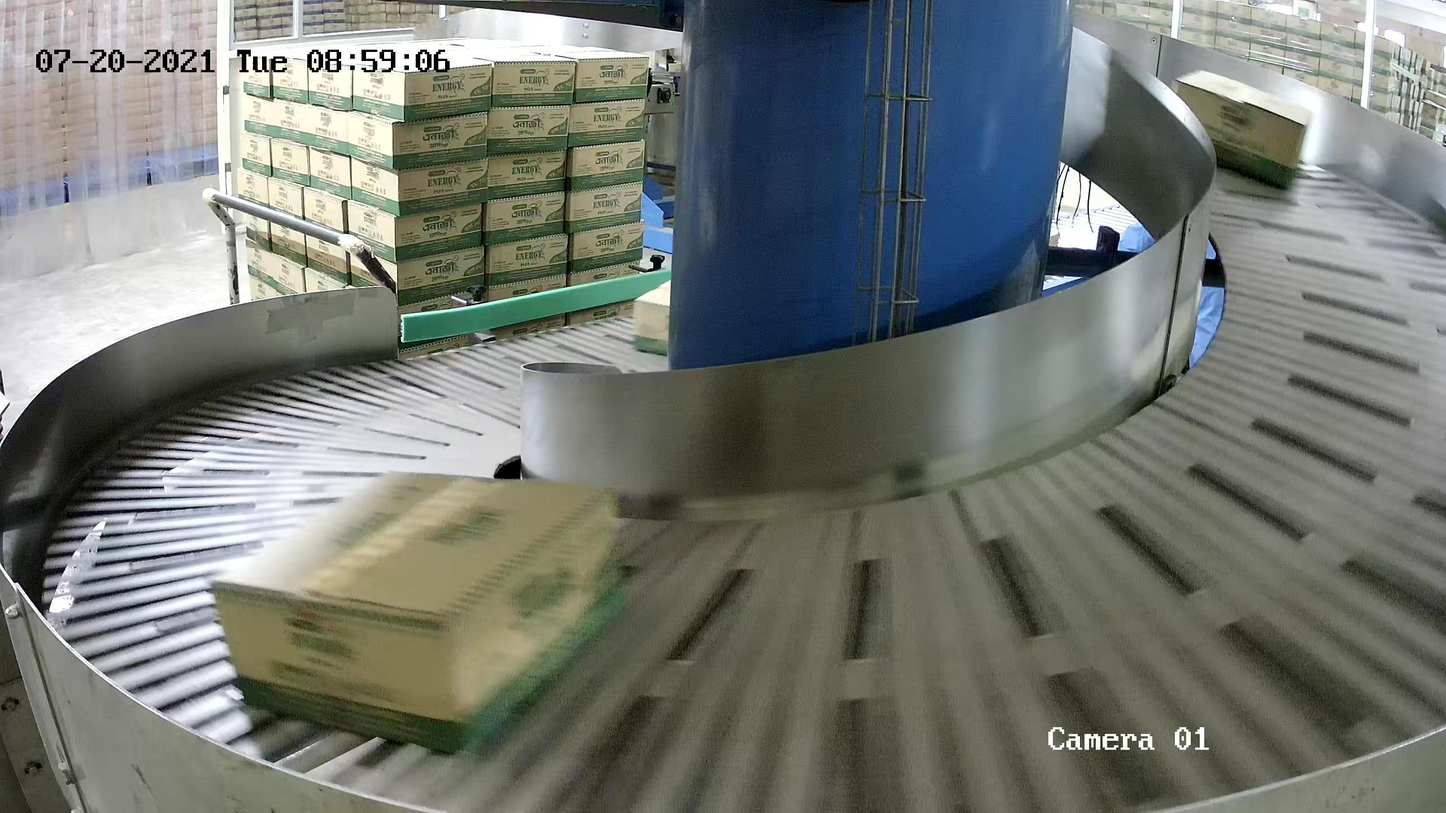Box: (209, 468, 626, 756), (1172, 69, 1314, 190), (632, 279, 671, 357)
